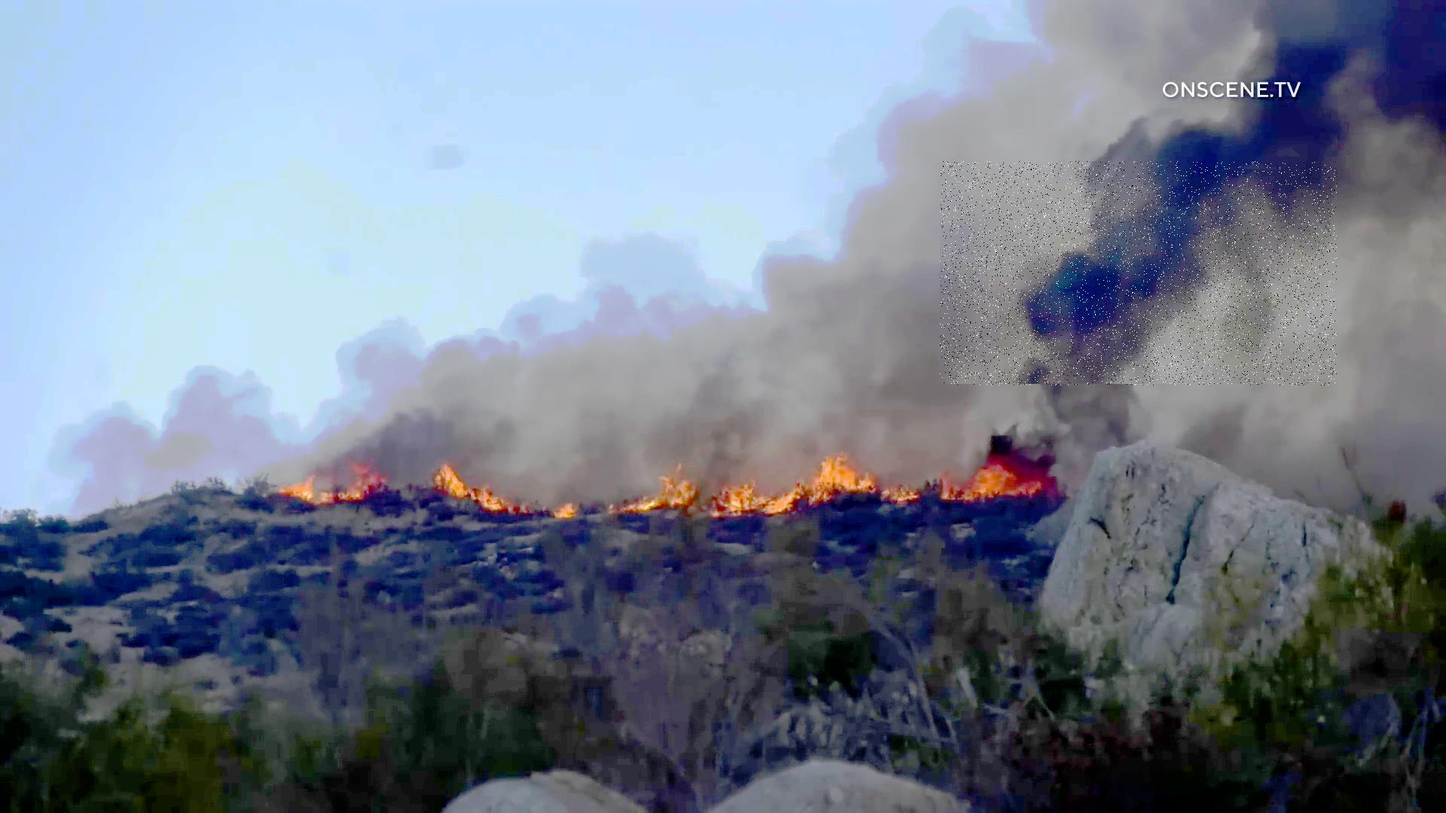smoke: (940, 162, 1337, 386)
